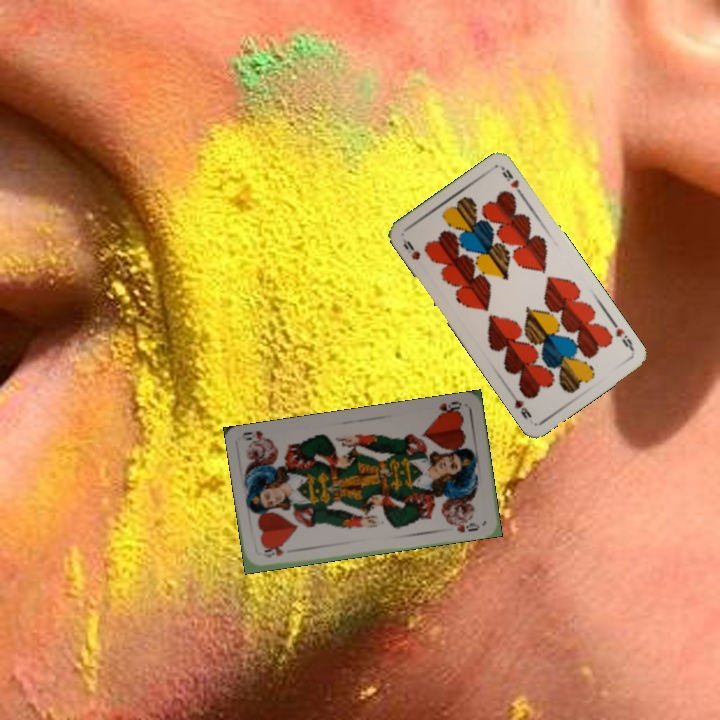H9: (398, 234, 423, 263), (612, 324, 636, 353)
HO: (434, 397, 464, 419), (259, 545, 287, 560)
